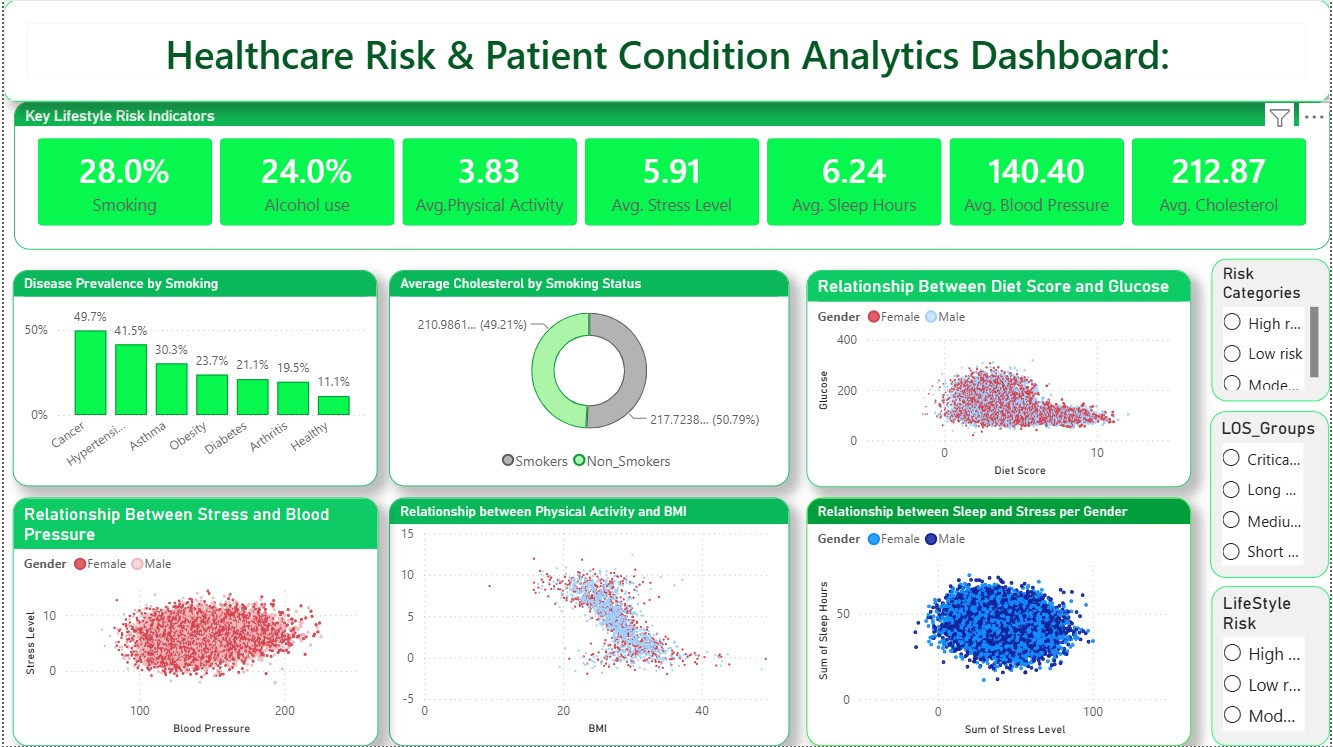

Layout of this report page (visuals, bound fields, positions):
{"tool":"powerbi","page":{"name":"Life Style Risk Analytics","canvas":[1280,720],"ordinal":2},"visuals":[{"type":"cardVisual","title":"Key Lifestyle Risk Indicators","fields":{"Data":["MEASURES_Table.m_Smokers%","MEASURES_Table.m_Alcohol users%","MEASURES_Table.x_AVg_Physical","MEASURES_Table.x_Avg_Stress","MEASURES_Table.m_Avg_Sleep","MEASURES_Table.x_Avg_BP","MEASURES_Table.m_Average_Cholesterol"]},"box":[9.7,97.7,1270.4,143.6],"z":0},{"type":"clusteredColumnChart","title":"Disease Prevalence by Smoking","fields":{"Y":["MEASURES_Table.m_Smokers%"],"Category":["DIM_MedicalCondition.Medical Condition"]},"box":[8.4,260.6,352.3,208.7],"z":1000},{"type":"donutChart","title":"Average Cholesterol by Smoking Status","fields":{"Y":["MEASURES_Table.m_Average Cholesterol_Smokers","MEASURES_Table.m_Average Cholesterol_Non_Smokers"]},"box":[371.6,260.6,386.1,208.7],"z":2000},{"type":"scatterChart","title":"Relationship between  Physical Activity and BMI","fields":{"X":["MEASURES_Table.m_Average_BMI"],"Y":["Expanded_Table.Physical Activity"],"Series":["DIM_Gender.Gender"]},"box":[371.5,480,386.5,240],"z":3000},{"type":"scatterChart","title":"Relationship Between Stress and Blood Pressure","fields":{"Y":["MEASURES_Table.x_Avg_Stress"],"X":["MEASURES_Table.x_Avg_BP"],"Size":["MEASURES_Table.x_Avg_BP"],"Category":["Expanded_Table.PT_Index"],"Series":["Expanded_Table.Gender"]},"box":[8.1,480,353.1,240],"z":4000},{"type":"scatterChart","title":"Relationship Between Diet Score and Glucose","fields":{"X":["MEASURES_Table.x_Avg.Diet Score"],"Y":["MEASURES_Table.x_Avg_Glucose"],"Category":["Expanded_Table.PT_Index"],"Series":["Expanded_Table.Gender"],"Size":["MEASURES_Table.x_Avg.Diet Score"]},"box":[774.5,260.6,371.6,209.9],"z":5000},{"type":"scatterChart","title":"Relationship between  Sleep and Stress per Gender","fields":{"Category":["FACT_Healthdata.PT_Index"],"Size":["MEASURES_Table.x_Sleep Hours"],"Series":["DIM_Gender.Gender"],"Y":["Sum(FACT_Healthdata.Sleep Hours)"],"X":["Sum(FACT_Healthdata.Stress Level)"]},"box":[774.5,480.2,371.6,240.1],"z":6000},{"type":"listSlicer","title":"Risk Categories","fields":{"Values":["FACT_Healthdata.Cardiac_Risk_categories"]},"box":[1165.4,249.7,114.6,137.5],"z":7000},{"type":"listSlicer","fields":{"Values":["DIM_LoS.LOS_Groups"]},"box":[1164.2,396.9,114.6,160.5],"z":8000},{"type":"cardVisual","fields":{"Data":["MEASURES_Table.dT_Main"]},"box":[0,0,1279.6,98.1],"z":9000},{"type":"listSlicer","fields":{"Values":["FACT_Healthdata.LifeStyle Risk Category"]},"box":[1165.4,565.8,114.6,154.4],"z":10000}]}

Visuals, with their boxes in screenshot pixels (x1, y1, x2, y2), scaled from the page's 1280x720 canvas onto the 1333x747 screenshot:
"Key Lifestyle Risk Indicators" cardVisual: box(10, 101, 1332, 250)
"Disease Prevalence by Smoking" clusteredColumnChart: box(9, 270, 376, 487)
"Average Cholesterol by Smoking Status" donutChart: box(387, 270, 789, 487)
"Relationship between  Physical Activity and BMI" scatterChart: box(387, 498, 789, 746)
"Relationship Between Stress and Blood Pressure" scatterChart: box(8, 498, 376, 746)
"Relationship Between Diet Score and Glucose" scatterChart: box(807, 270, 1194, 488)
"Relationship between  Sleep and Stress per Gender" scatterChart: box(807, 498, 1194, 746)
"Risk Categories" listSlicer: box(1214, 259, 1332, 402)
listSlicer - DIM_LoS.LOS_Groups: box(1212, 412, 1332, 578)
cardVisual - MEASURES_Table.dT_Main: box(0, 0, 1332, 102)
listSlicer - FACT_Healthdata.LifeStyle Risk Category: box(1214, 587, 1332, 746)
